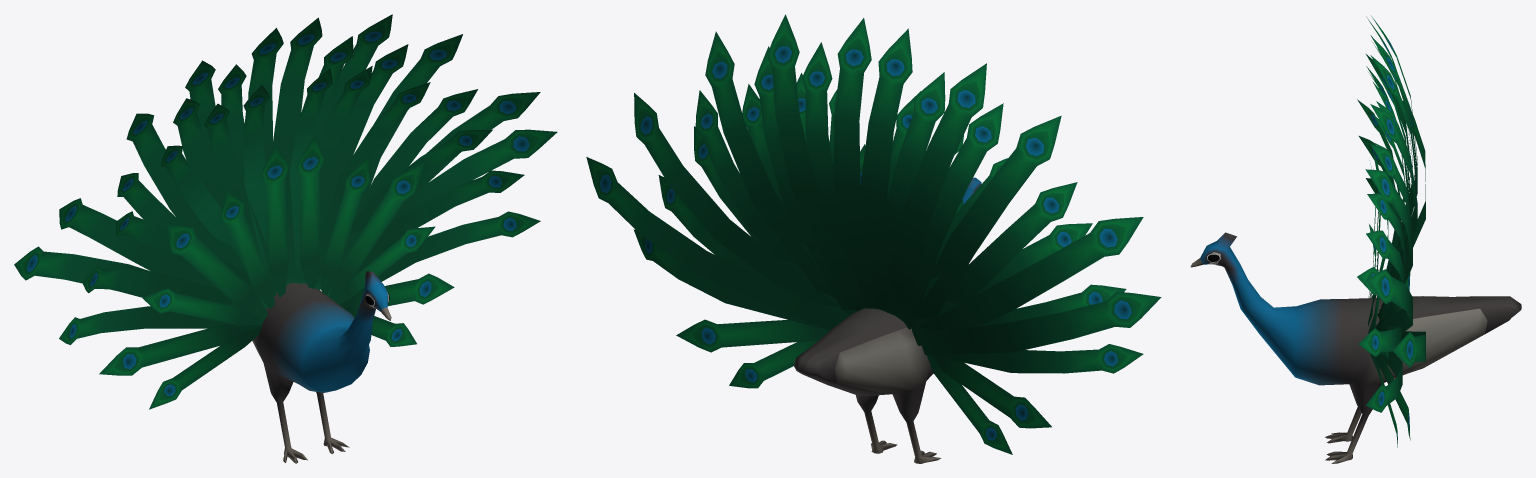
Rendered from animals-birdsupright-peacock_v1.fbx.
3 views of the same model, side by side, from view 1: azimuth 30°, elevation 25°; view 2: azimuth 150°, elevation 25°; view 3: azimuth 270°, elevation 25° (orthographic). The views are drawn at different scales.
Parts seen in each view (by area): view 1: Peacock_v1_DblSided, Peacock_v1_base; view 2: Peacock_v1_DblSided, Peacock_v1_base; view 3: Peacock_v1_base, Peacock_v1_DblSided.
Boxes of the visible parts, x1,y1,x2,y2 form: Peacock_v1_DblSided: [14, 14, 557, 409]; Peacock_v1_base: [252, 271, 391, 463]; Peacock_v1_DblSided: [586, 14, 1161, 454]; Peacock_v1_base: [793, 177, 981, 463]; Peacock_v1_base: [1190, 232, 1521, 463]; Peacock_v1_DblSided: [1357, 16, 1425, 447].
Size of the model in its own units: 2.39 by 1.75 by 1.3.
